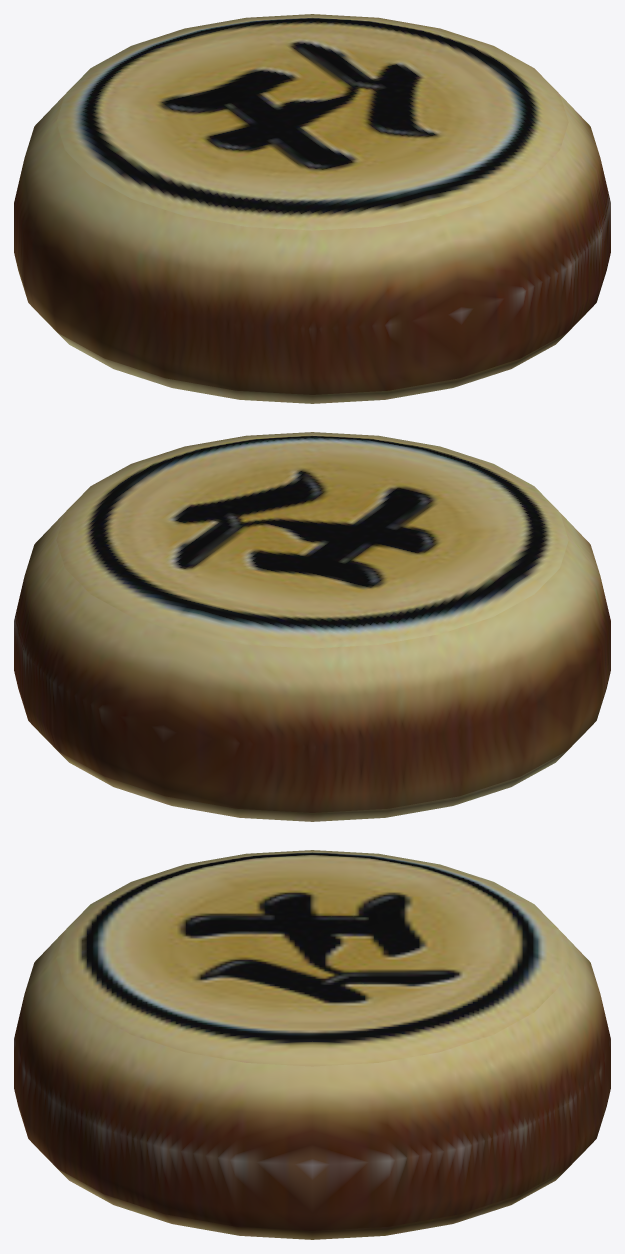
The model's file is Black_03_advisor_left.gltf.
3 views of the same model, one above another, from view 1: azimuth 30°, elevation 25°; view 2: azimuth 150°, elevation 25°; view 3: azimuth 270°, elevation 25° (orthographic).
Visible parts, largest first — view 1: Black_03_advisor_left; view 2: Black_03_advisor_left; view 3: Black_03_advisor_left.
Part boxes in pixels (<box>): Black_03_advisor_left: <box>14,14,610,403</box>; Black_03_advisor_left: <box>14,432,610,821</box>; Black_03_advisor_left: <box>14,850,610,1239</box>.
Bounding box in the file's own units: 0.0468 × 0.0155 × 0.0468.
1 material, 1 textured.
